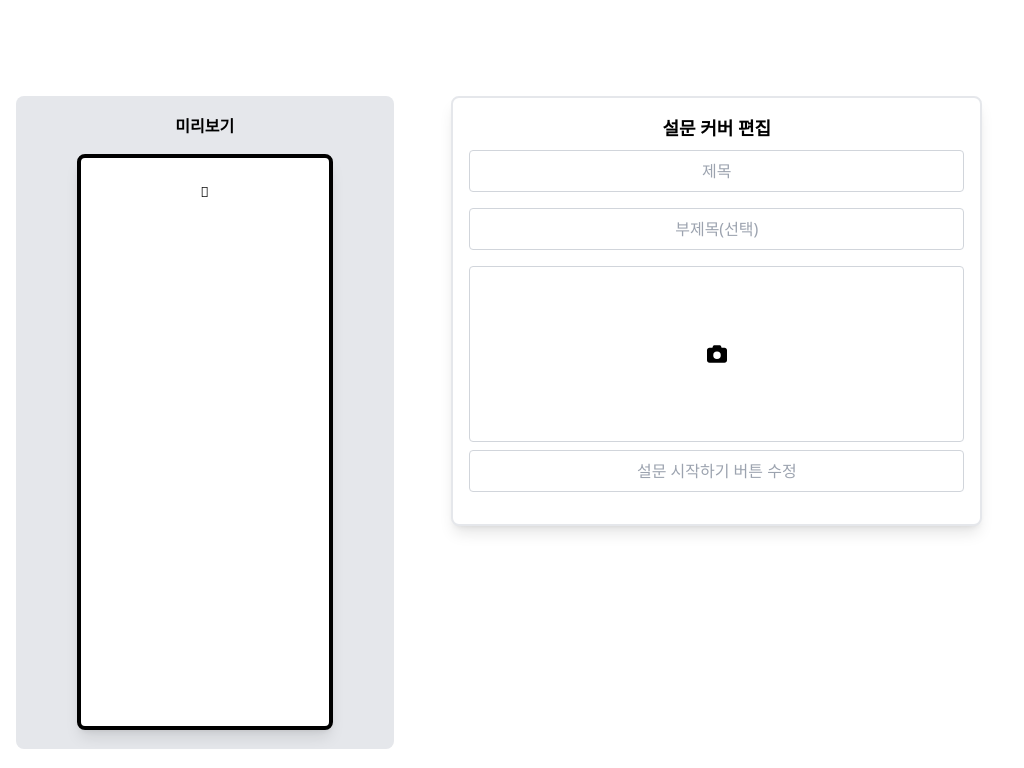
it: CoverEditor 컴포넌트 › 유효성 검사를 통과하지 못하면 에레 메시지를 보여줘야 한다.
Type "틀린 제목" into the field with placeholder "제목" at point(717, 171), box x1=469 y1=150 x2=964 y2=192
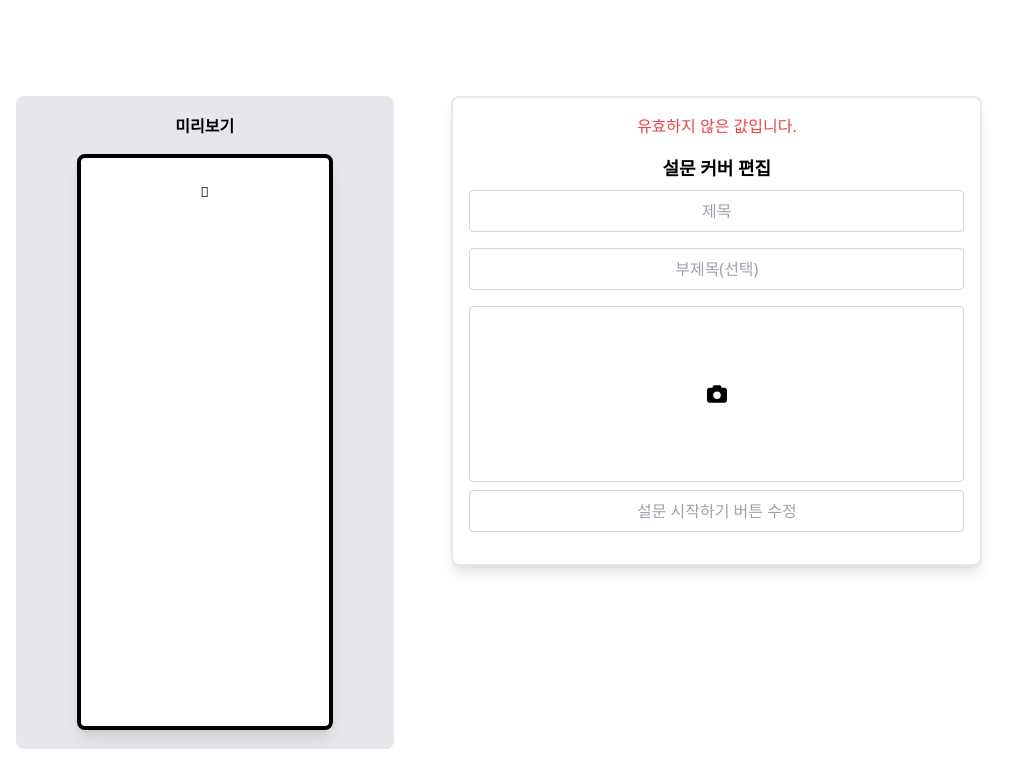
Now the text "유효하지 않은 값입니다." is shown, box x1=637 y1=115 x2=797 y2=137
